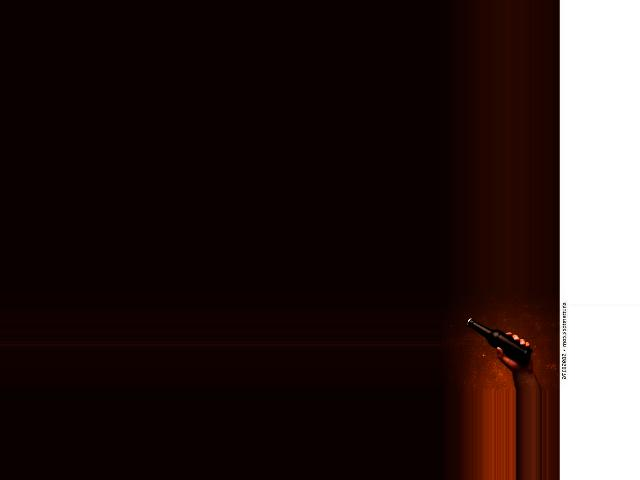beer: (466, 317, 532, 366)
